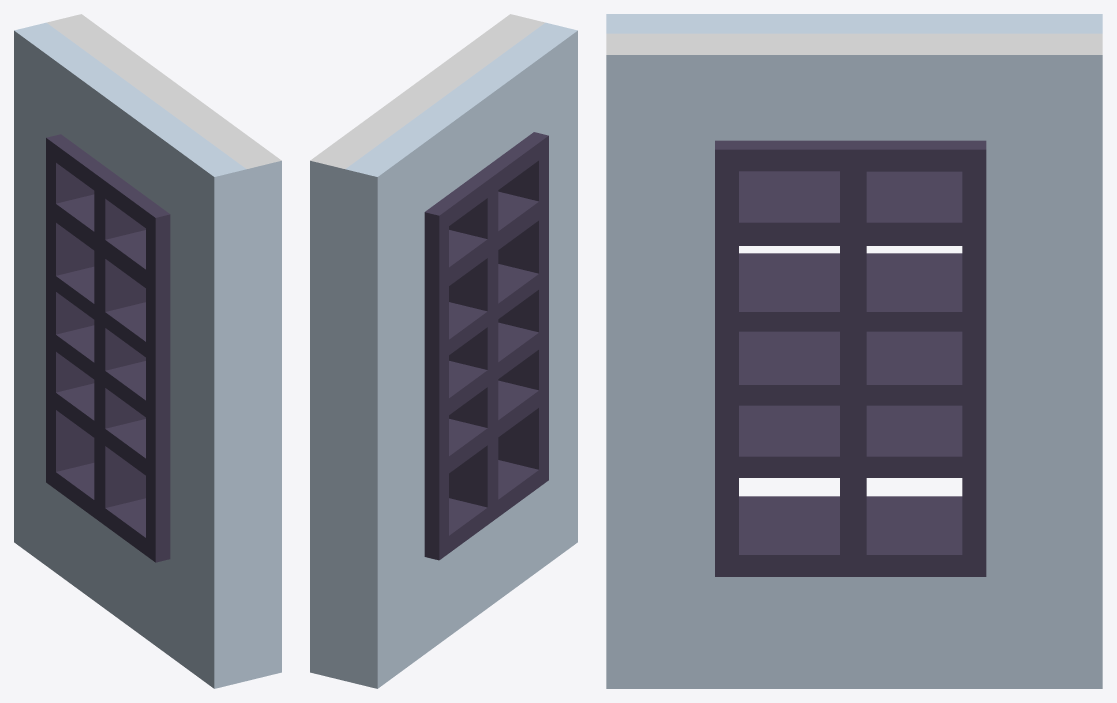
The model's file is LongWall1.fbx.
3 renders of one model, left to right at view 1: azimuth 30°, elevation 25°; view 2: azimuth 150°, elevation 25°; view 3: azimuth 270°, elevation 25°, orthographic. The views are drawn at different scales.
Parts seen in each view (by area): view 1: WallLong1; view 2: WallLong1; view 3: WallLong1.
Boxes of the visible parts, x1=… form: WallLong1: x1=14, y1=14, x2=281, y2=688; WallLong1: x1=310, y1=14, x2=577, y2=688; WallLong1: x1=606, y1=14, x2=1102, y2=688.
Bounding box in the file's own units: 33.01 × 166 × 118.
